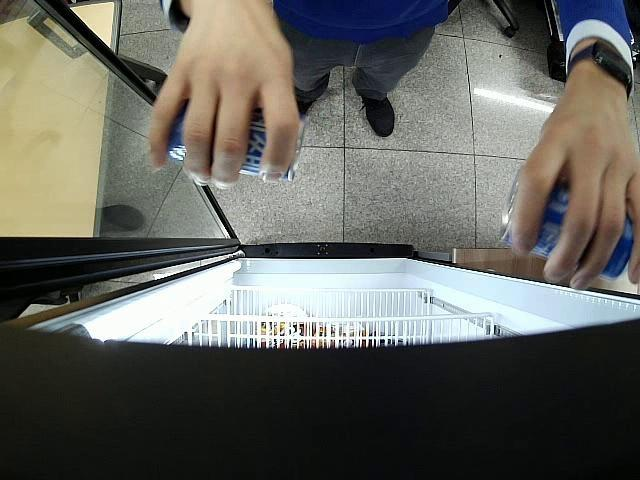15_letsbe: (498, 162, 634, 278), (170, 100, 310, 182)
